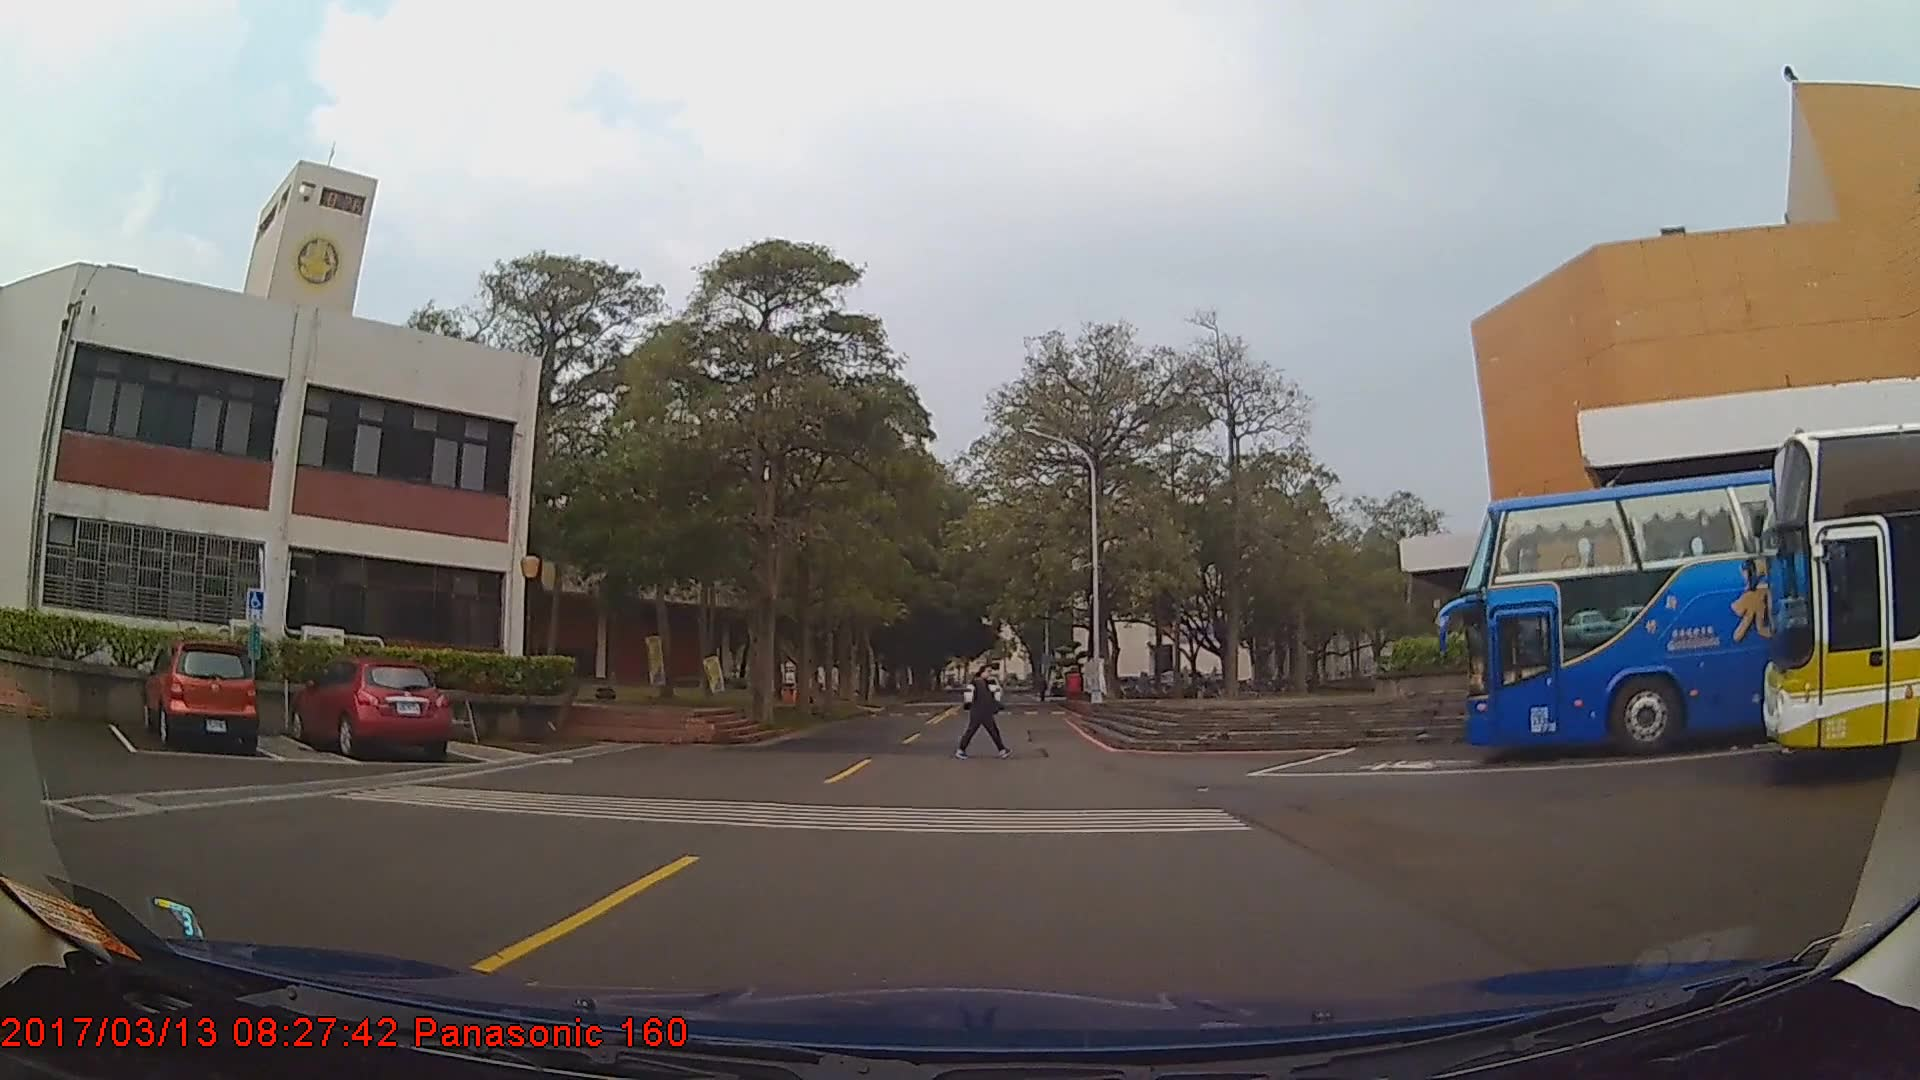pedestrian: (958, 663, 1010, 764)
vehicle: (1464, 448, 1920, 761), (1763, 419, 1920, 774), (286, 661, 446, 762), (141, 641, 257, 753)
